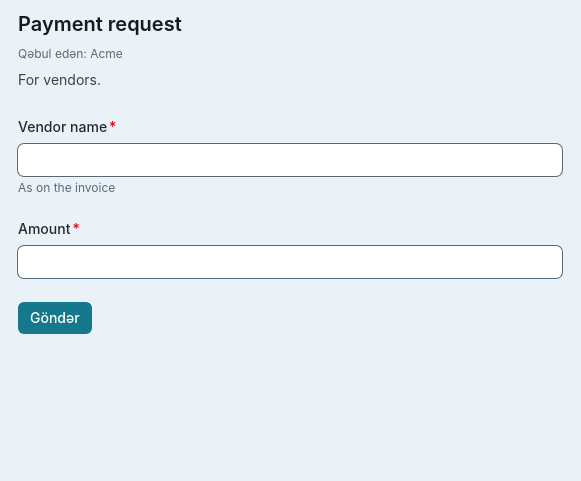
Test case: FormPage › puts a server validation error under its field
Type "Vendor-A" into the field labelled "Vendor name*".
click(290, 160); type("Vendor-A")  # box [18, 144, 562, 176]
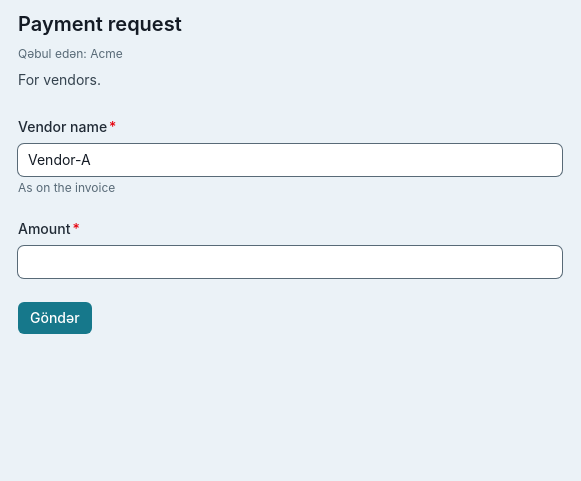
Type "1e20" into the field labelled "Amount*".
click(290, 262); type("1e20")  # box [18, 246, 562, 278]
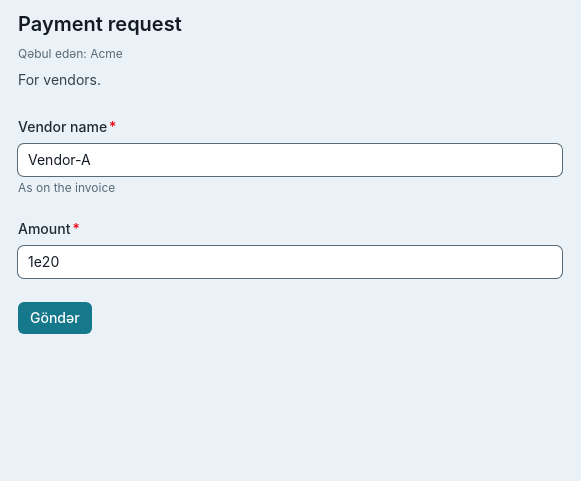
Click the button "Göndər".
click(55, 318)  # box [18, 302, 92, 334]
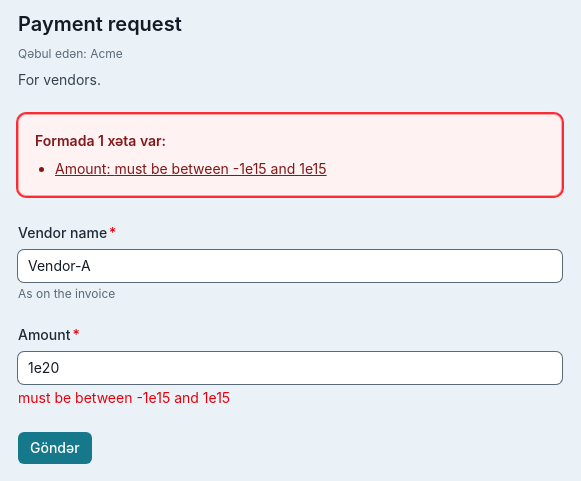
expect the message shows "Amount: must be between": met, box [18, 114, 562, 196]
